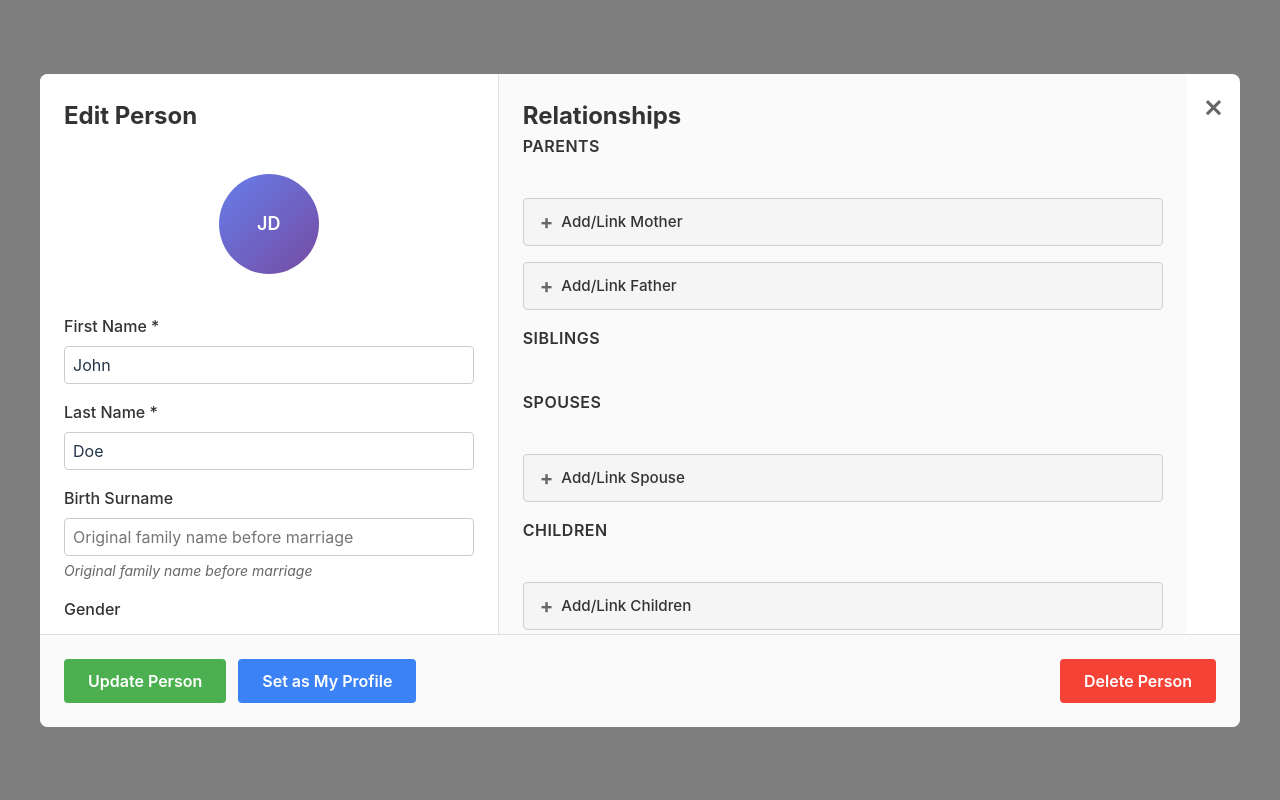
Test: PersonModal - Spouses Section with CollapsibleActionPanel (Issue #54) › AC6: Link success collapses panel › should collapse panel and show RelationshipCard on successful link
Click the button with class "trigger-button" showing "+ Add/Link Spouse": (623, 478) [523,454,1163,502]
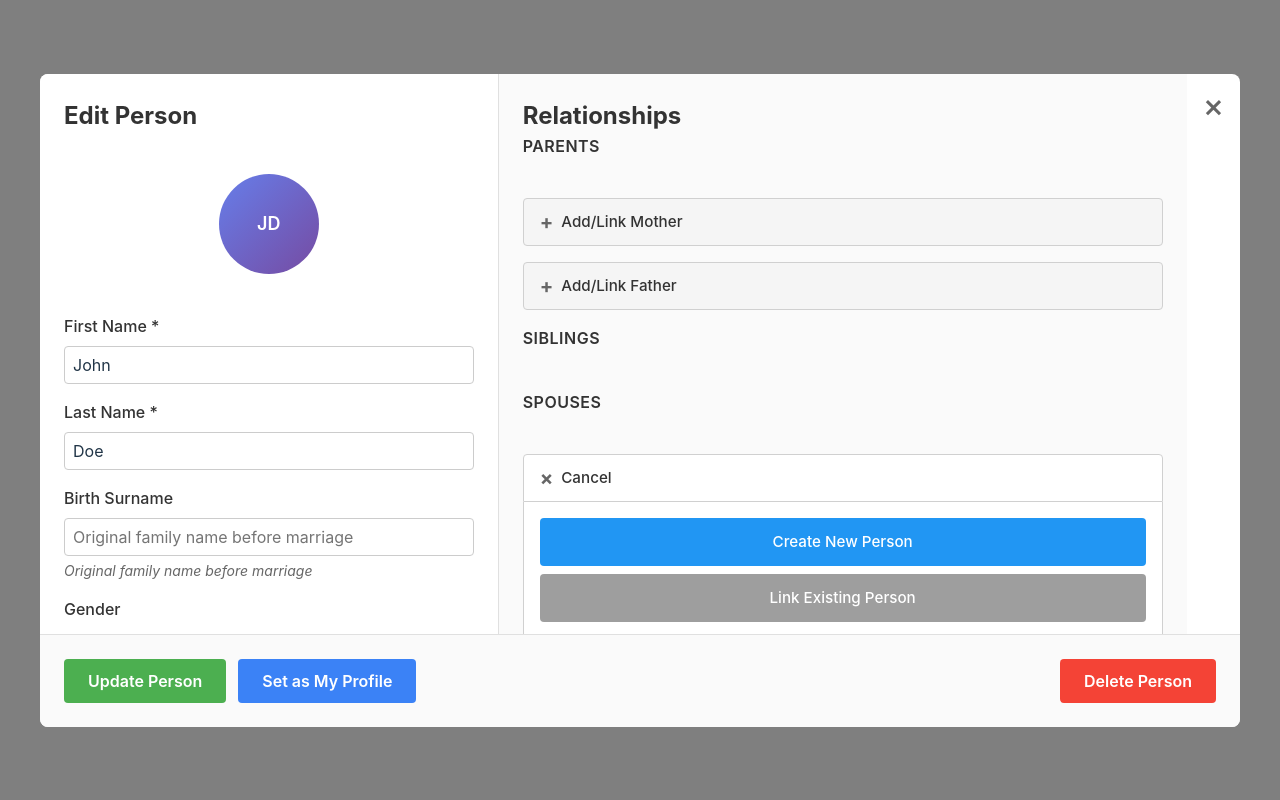
Click the button "Link Existing Person": (843, 598) [540,574,1146,622]
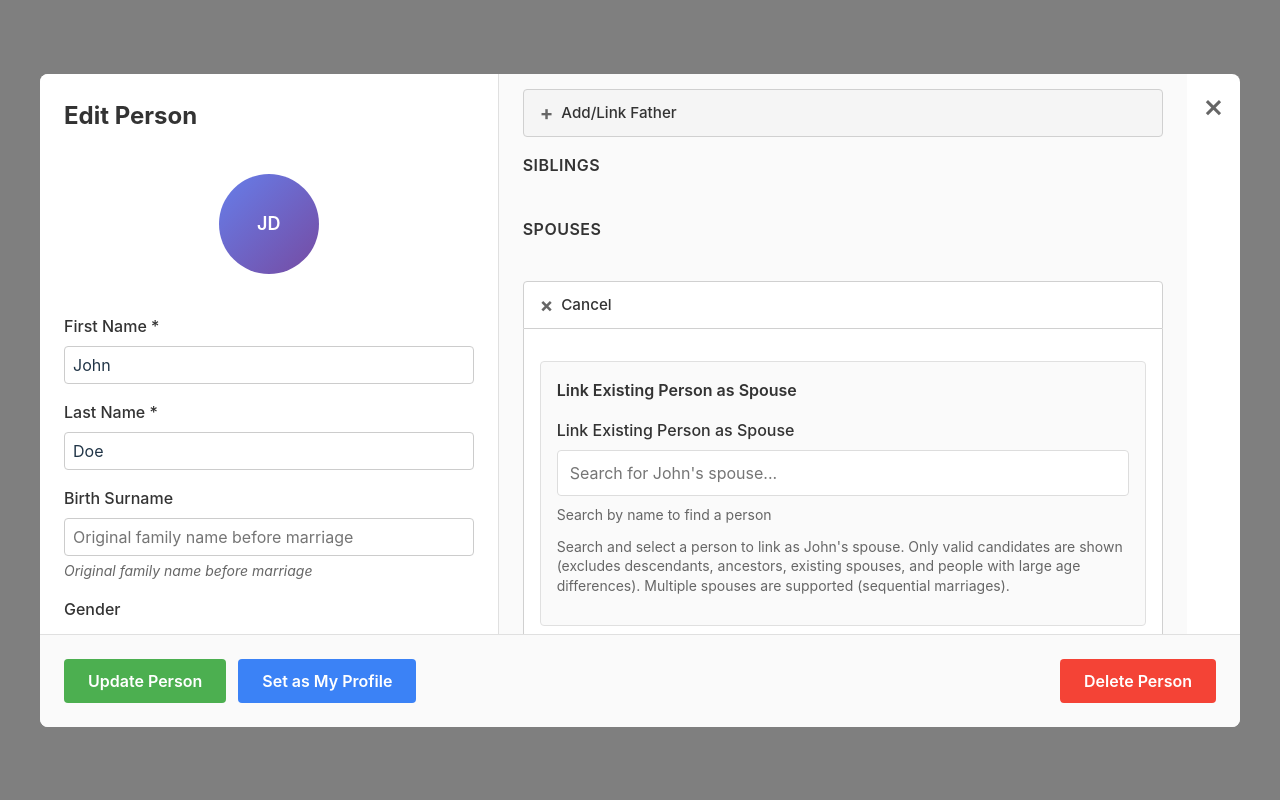
expect the element that starts with "Link Existing Person as Spouse" is shown: met, box [524,328,1162,634]
